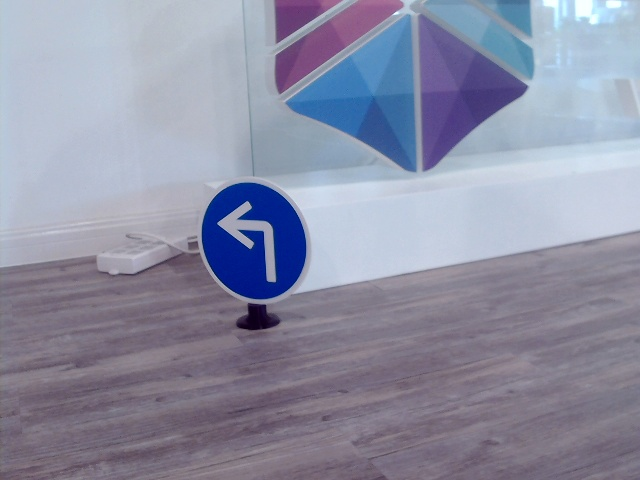turn_left: (217, 197, 277, 288)
